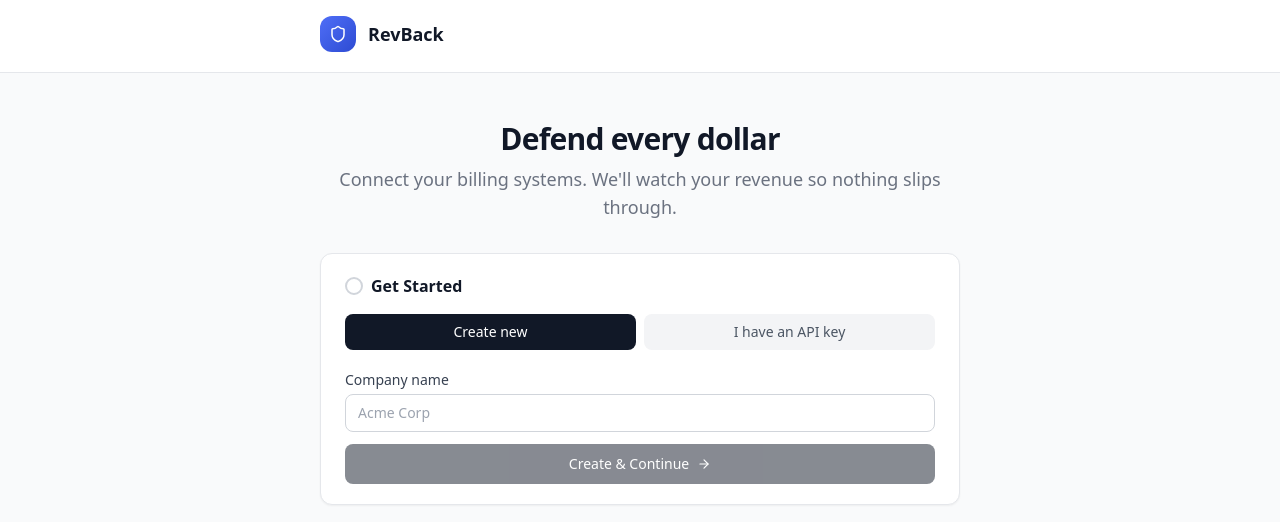
Test: OnboardingPage › Section 1: Existing API key flow › switches to API key input mode
The width and height of the screenshot is (1280, 522).
Click the button "I have an API key".
click(790, 332)  # box [644, 314, 935, 350]
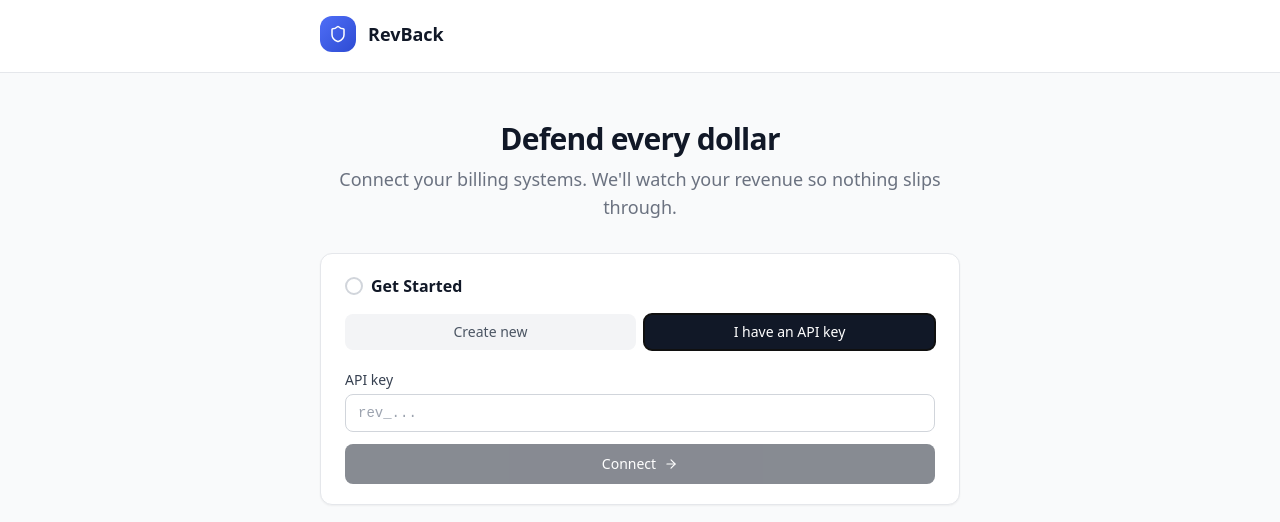
Now the password field with placeholder "rev_..." is shown, box [345, 394, 935, 432]
Now the button "Connect" is shown, box [345, 444, 935, 484]
